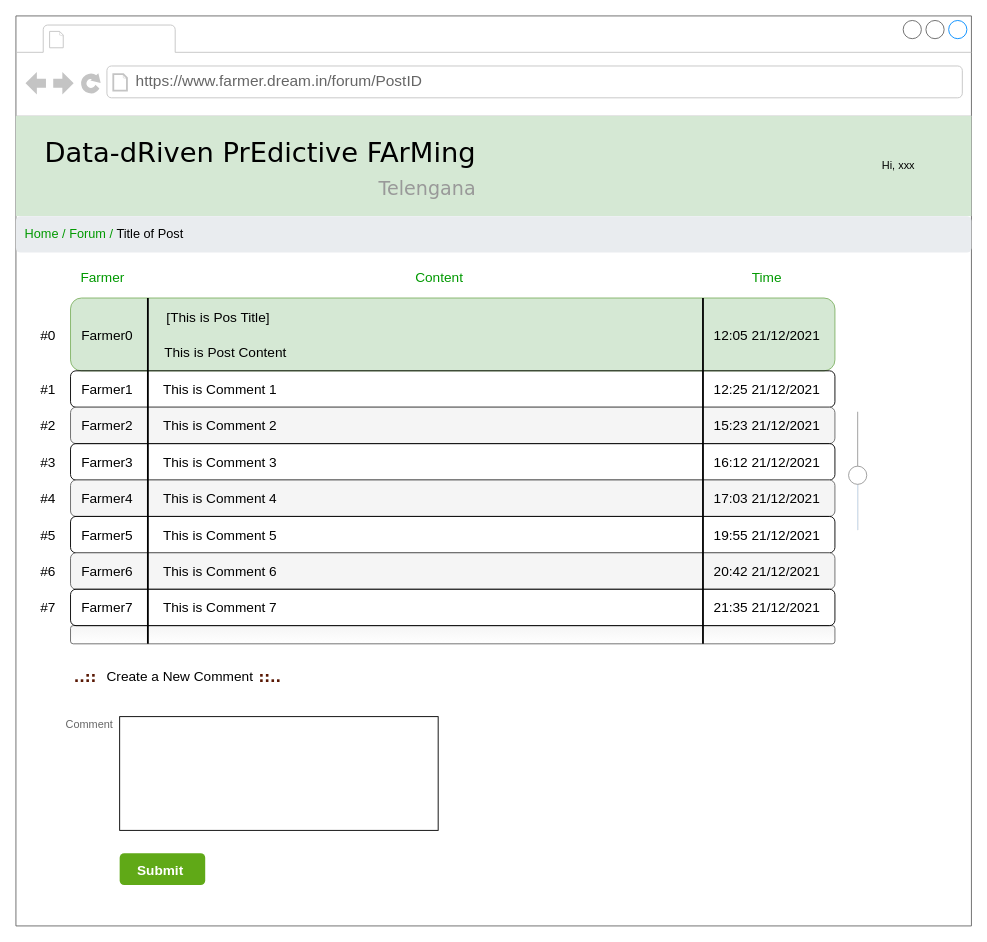
The diagram is 987 pixels wide and 942 high, and some of its shapes have lost their labels. Each missing label, with the box of its shape:
Enter conten of Comment: (119, 716, 438, 830)
Title of Post: (70, 26, 171, 51)
